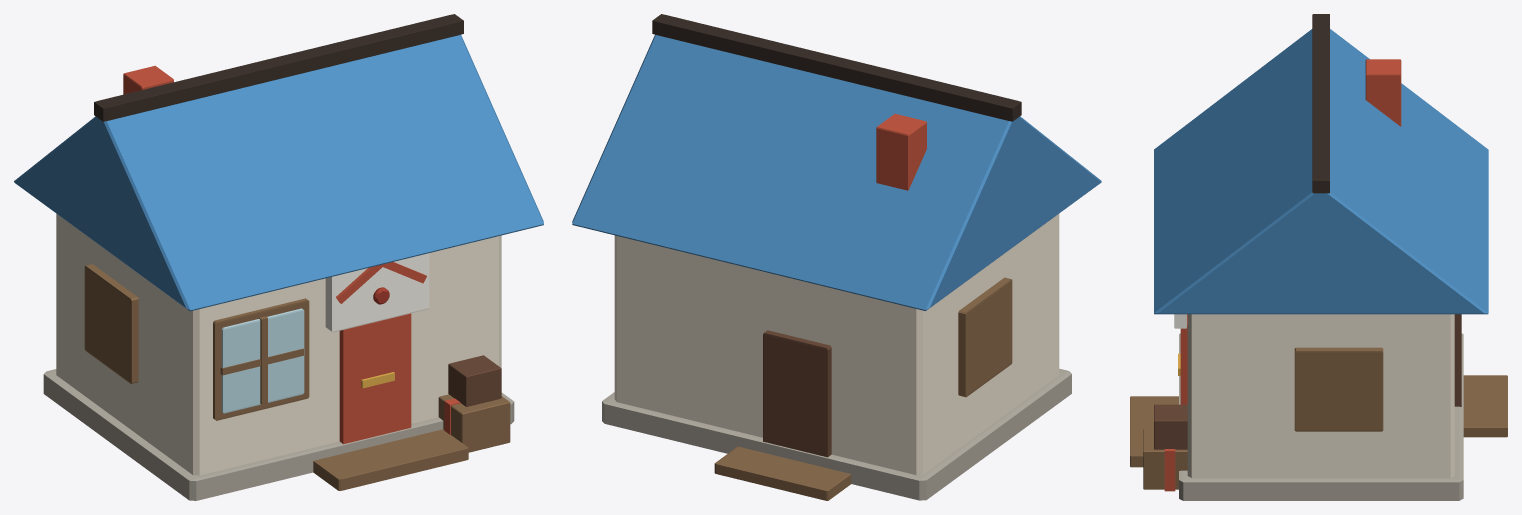
The model's file is office.glb.
3 renders of one model, left to right at view 1: azimuth 30°, elevation 25°; view 2: azimuth 150°, elevation 25°; view 3: azimuth 270°, elevation 25°, orthographic. The views are drawn at different scales.
Parts seen in each view (by area): view 1: k_roof, k_walls, k_base, k_ridge, k_door, k_win, k_porch, k_sw1_f, k_env, k_parcel1, k_winf, k_parcel2 (+3 smaller); view 2: k_roof, k_walls, k_base, k_ridge, k_backdoor, k_sw1_f, k_backporch, k_chimney; view 3: k_roof, k_walls, k_base, k_sw2_f, k_ridge, k_backporch, k_chimney, k_porch, k_parcel2, k_parcel1, k_backdoor, k_door (+1 smaller).
Boxes of the visible parts, box(x1,y1,x2,y2) form: k_roof: box(14, 34, 543, 311); k_walls: box(56, 213, 501, 475); k_base: box(43, 369, 514, 500); k_ridge: box(94, 14, 463, 121); k_door: box(339, 313, 411, 444); k_win: box(221, 308, 304, 413); k_porch: box(313, 429, 468, 490); k_sw1_f: box(84, 264, 138, 383); k_env: box(325, 253, 429, 332); k_parcel1: box(438, 394, 510, 452); k_winf: box(213, 298, 309, 420); k_parcel2: box(448, 355, 501, 406); k_roof: box(572, 34, 1101, 310); k_walls: box(614, 214, 1059, 475); k_base: box(602, 368, 1071, 500); k_ridge: box(652, 14, 1021, 121); k_backdoor: box(763, 330, 831, 457); k_sw1_f: box(958, 277, 1012, 397); k_backporch: box(714, 446, 851, 500); k_chimney: box(876, 113, 926, 190); k_roof: box(1154, 29, 1488, 314); k_walls: box(1187, 314, 1454, 478); k_base: box(1179, 333, 1463, 500); k_sw2_f: box(1294, 347, 1383, 431); k_ridge: box(1312, 14, 1329, 193); k_backporch: box(1463, 375, 1507, 437); k_chimney: box(1365, 59, 1401, 126); k_porch: box(1130, 396, 1178, 467); k_parcel2: box(1154, 404, 1187, 449); k_parcel1: box(1143, 429, 1187, 489); k_backdoor: box(1454, 314, 1461, 406); k_door: box(1180, 314, 1187, 404).
Bounding box in the file's own units: 2.22 × 2.05 × 2.13.
